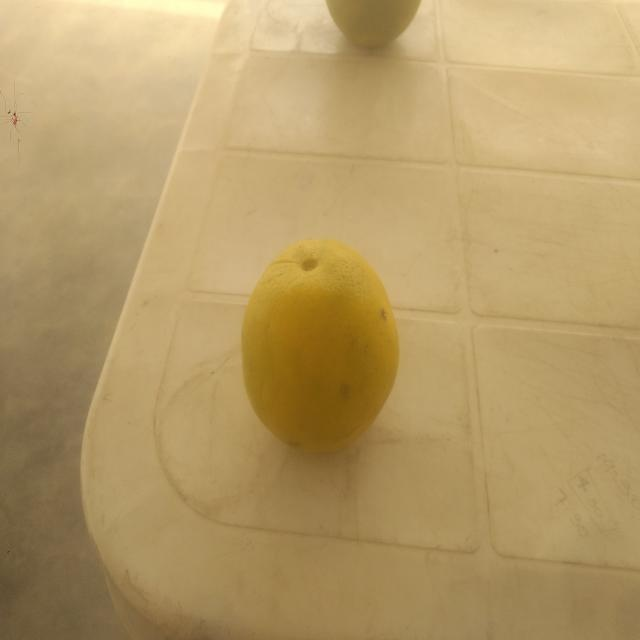agrume: (234, 240, 406, 470)
